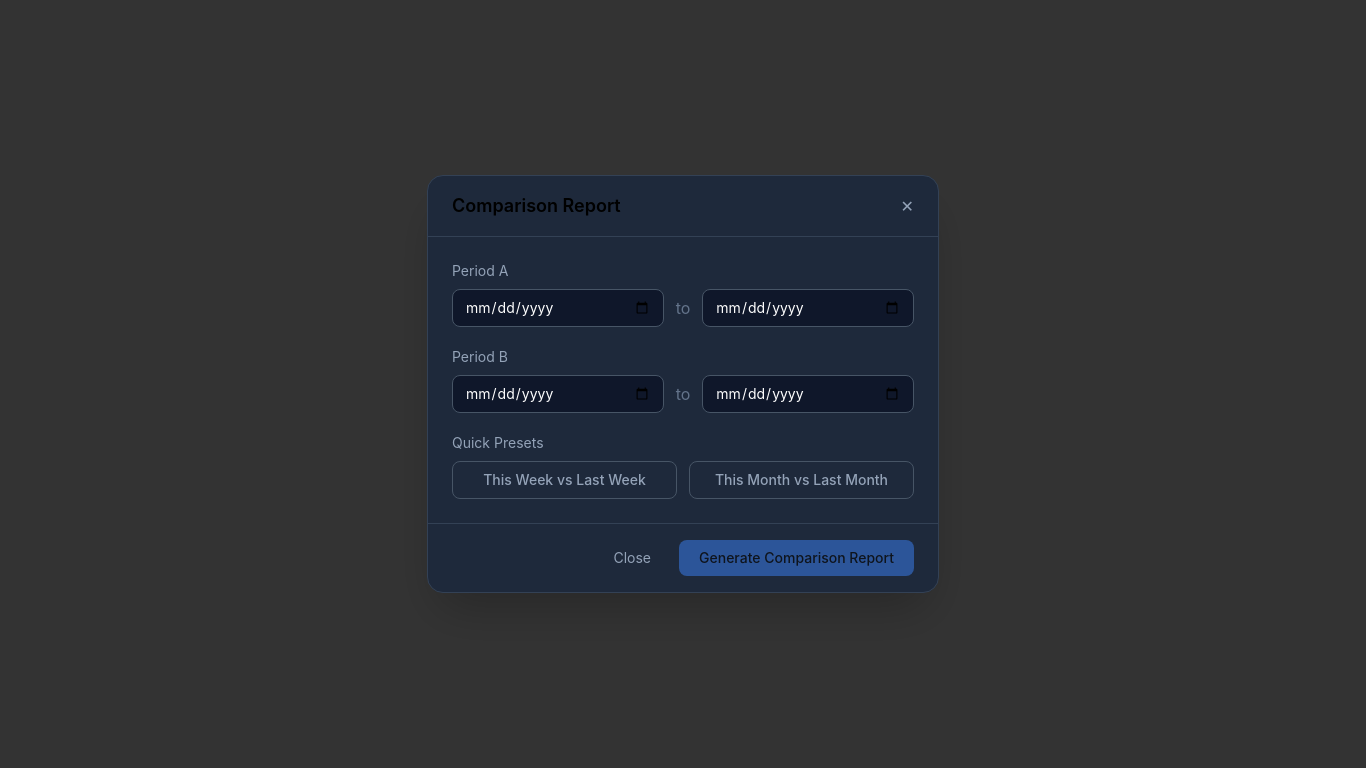
Scenario: ReportComparisonModal › Generate Comparison › handles error from API
Type "2026-03-01" into the 1st date field.
click(558, 308); type("2026-03-01")  # box [452,289,664,327]
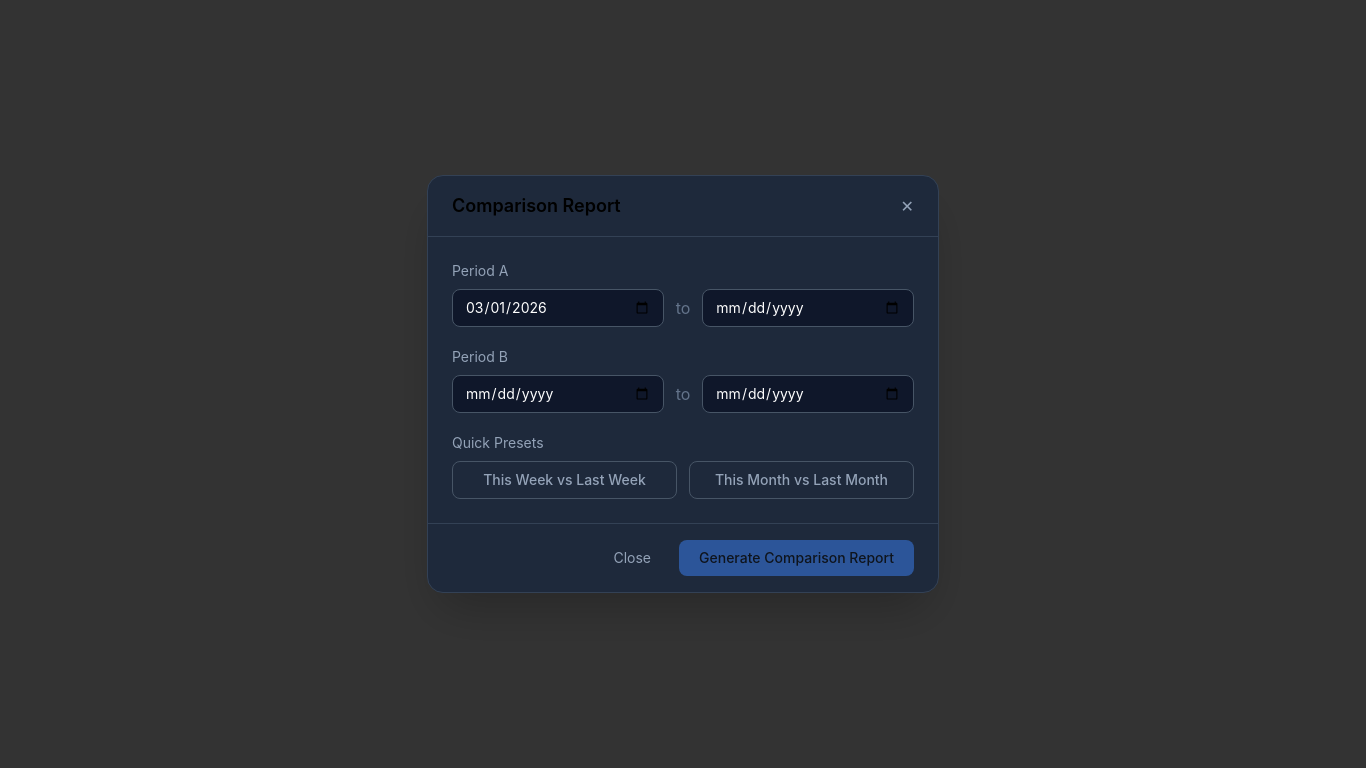
Type "2026-03-07" into the 2nd date field.
click(808, 308); type("2026-03-07")  # box [702,289,914,327]
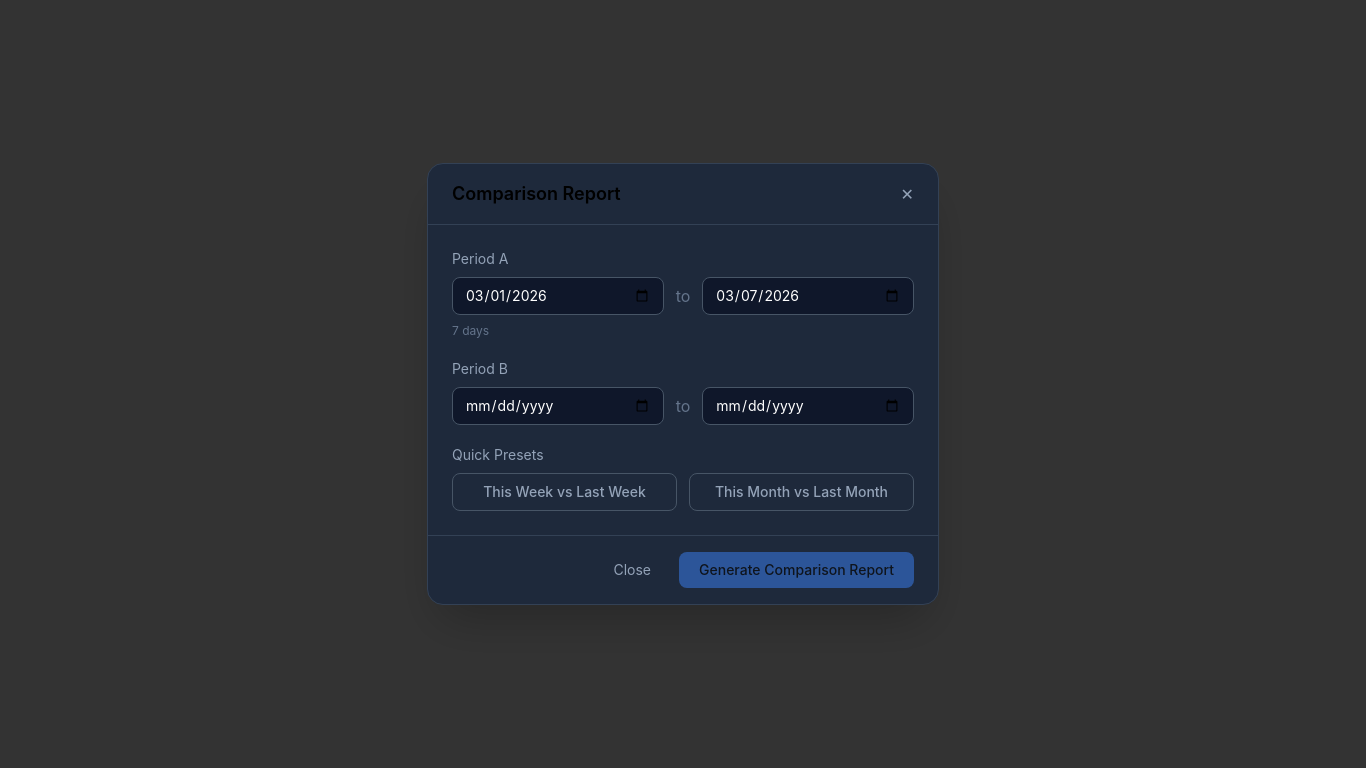
Type "2026-03-08" into the 3rd date field.
click(558, 406); type("2026-03-08")  # box [452,387,664,425]
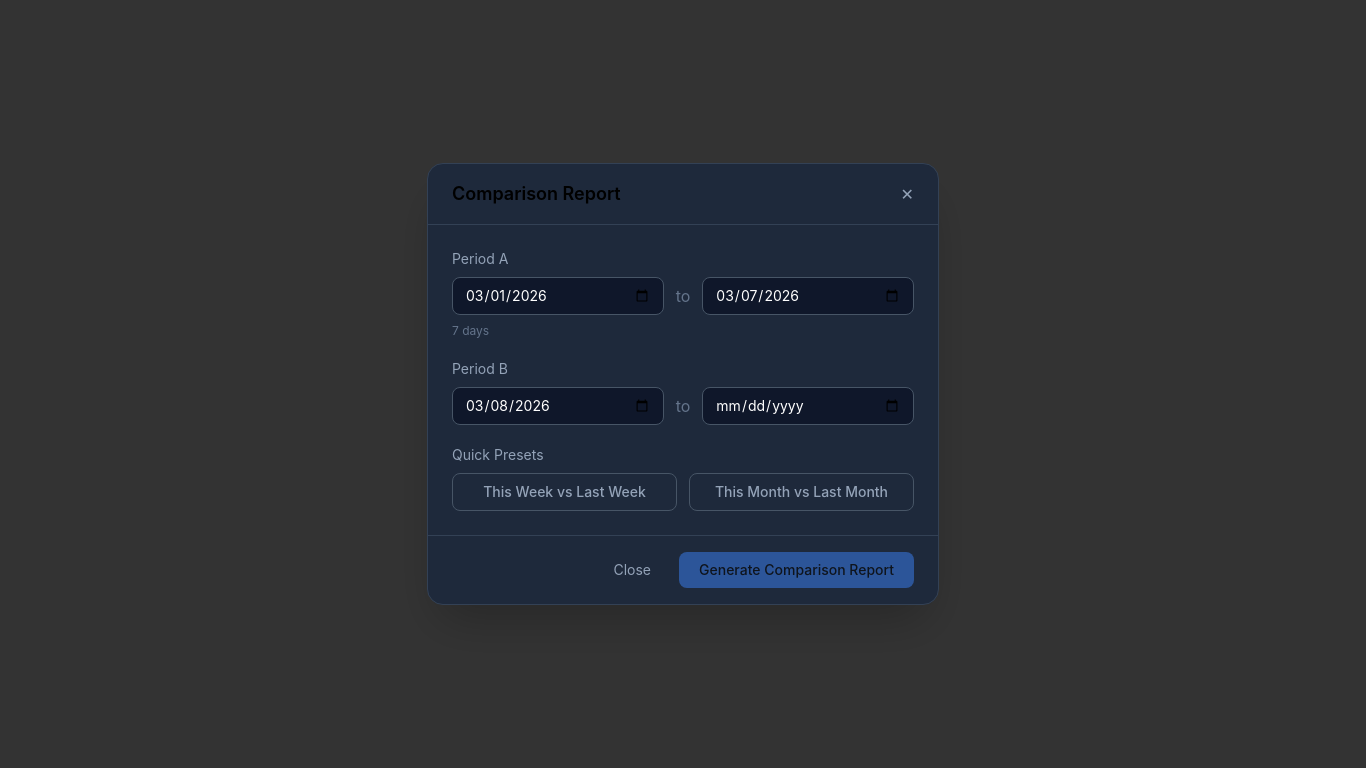
Type "2026-03-14" into the 4th date field.
click(808, 406); type("2026-03-14")  # box [702,387,914,425]
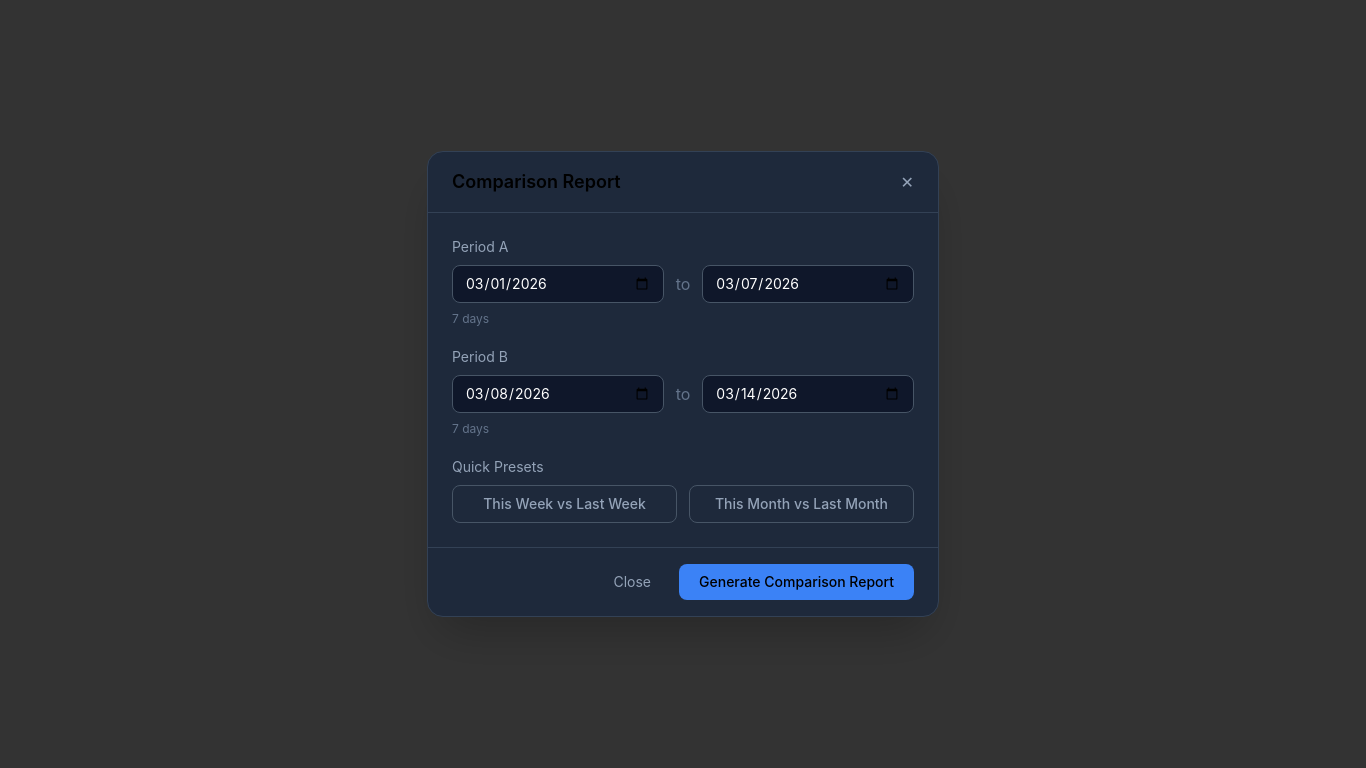
Click the button "Generate Comparison Report".
click(796, 582)  # box [679,564,914,600]
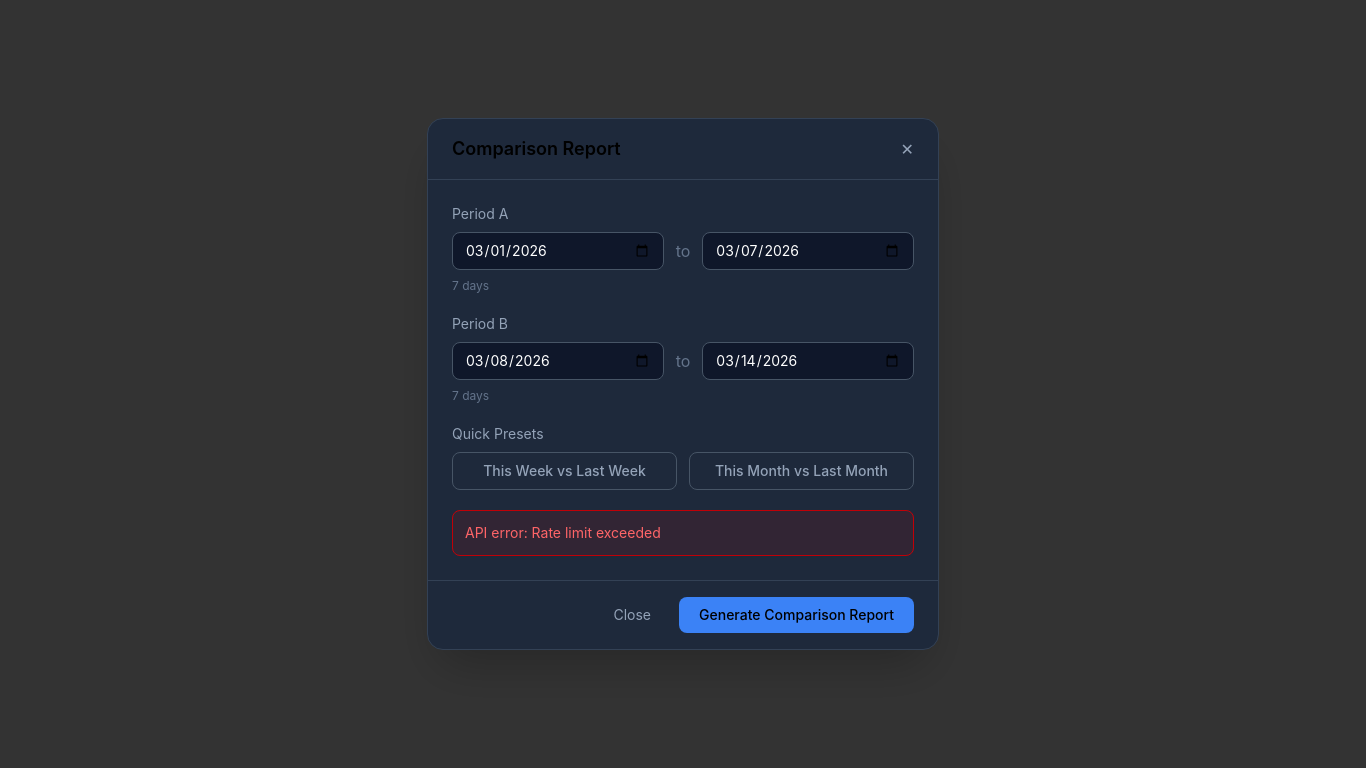
Expected: the text "API error: Rate limit exceeded" is shown, [465,524,661,541]
